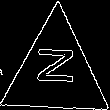N_W: (33, 51, 79, 93)
